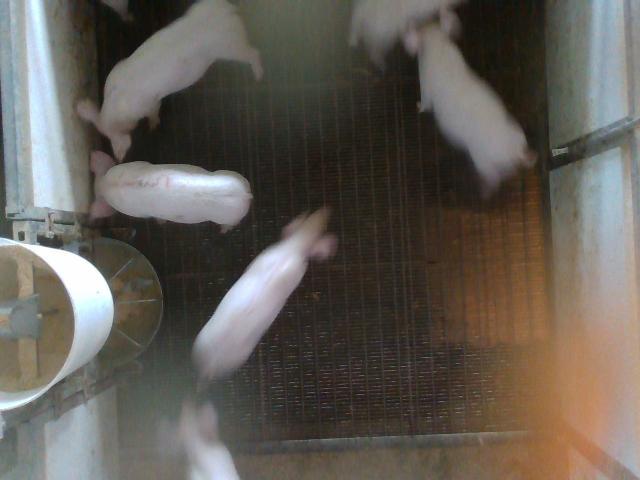pig-3: (90, 151, 252, 226)
